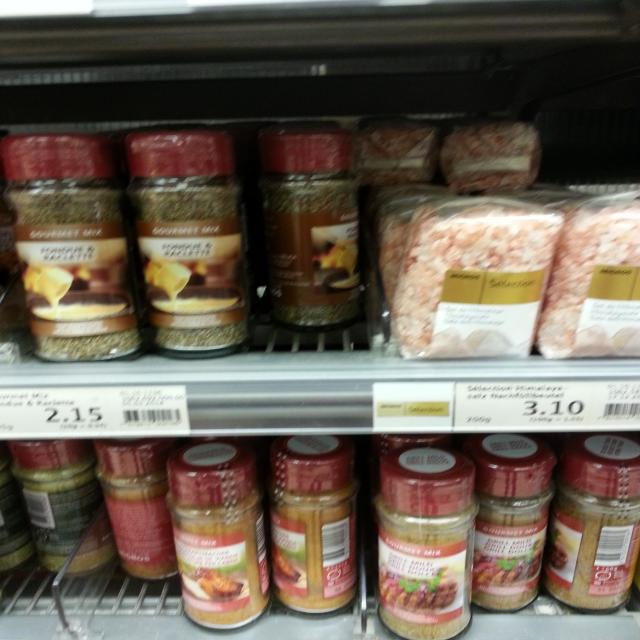Spices: (0, 132, 142, 365), (118, 127, 257, 357), (385, 196, 565, 361), (258, 127, 368, 332), (370, 446, 478, 640), (166, 442, 272, 634), (541, 432, 640, 619), (539, 186, 640, 366), (262, 436, 361, 618), (472, 435, 560, 613), (12, 442, 118, 576), (93, 440, 189, 580), (441, 113, 544, 201)
